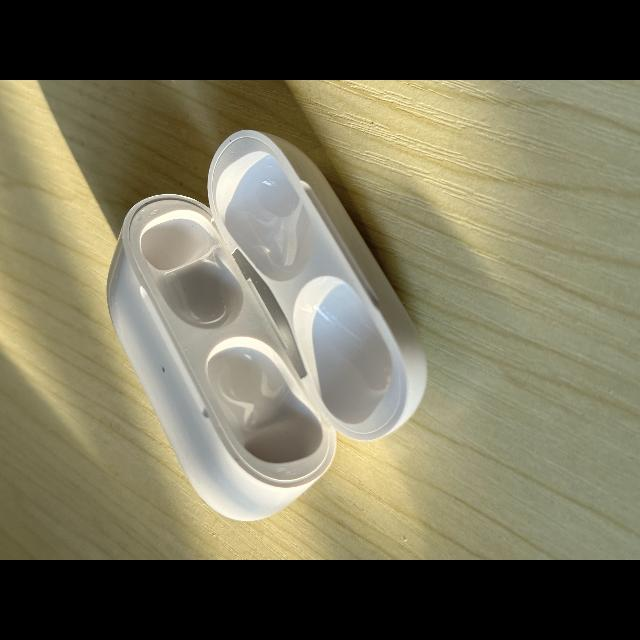AirPods Pro: (107, 129, 427, 521)
